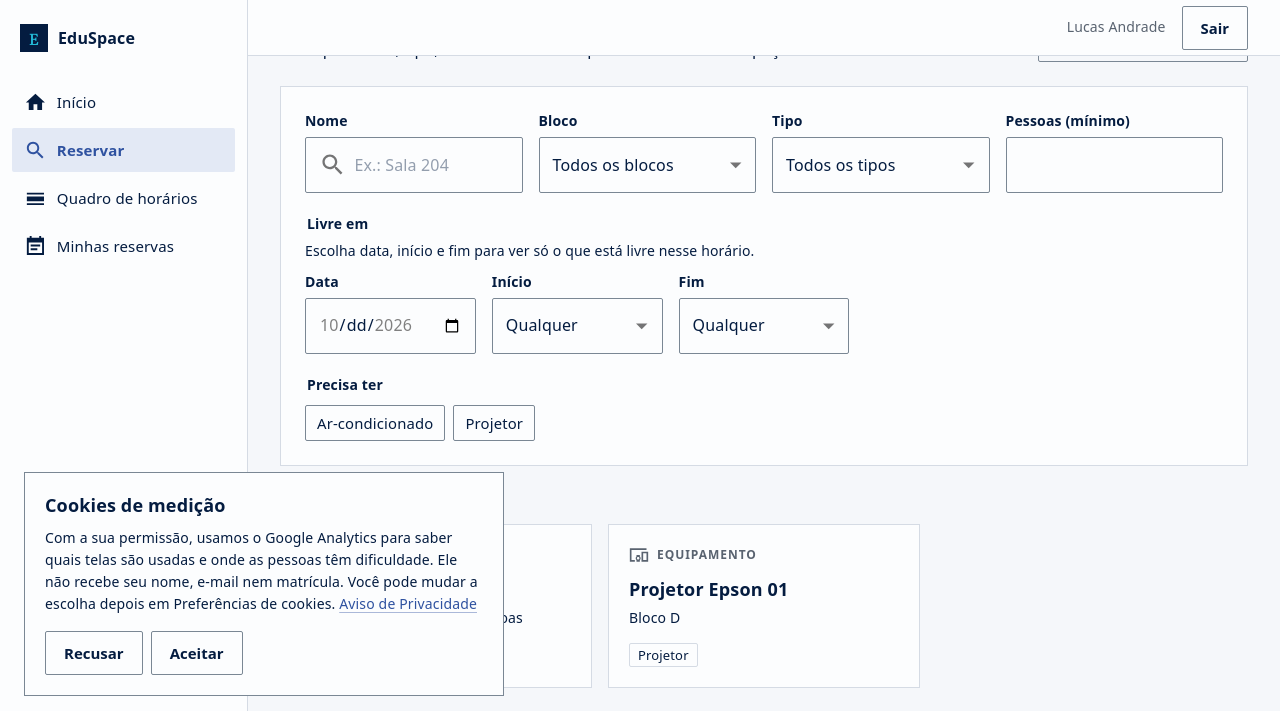
Test: reserve page (catalog list) › opens the detail when a card is clicked
(page scrolled)
What coordinates should you click on to do the following:
click the link "Equipamento Projetor Epson 01 Bloco D Projetor"
I would click on:
 (707, 554)
Its box is [608,524,920,688].
(page scrolled)
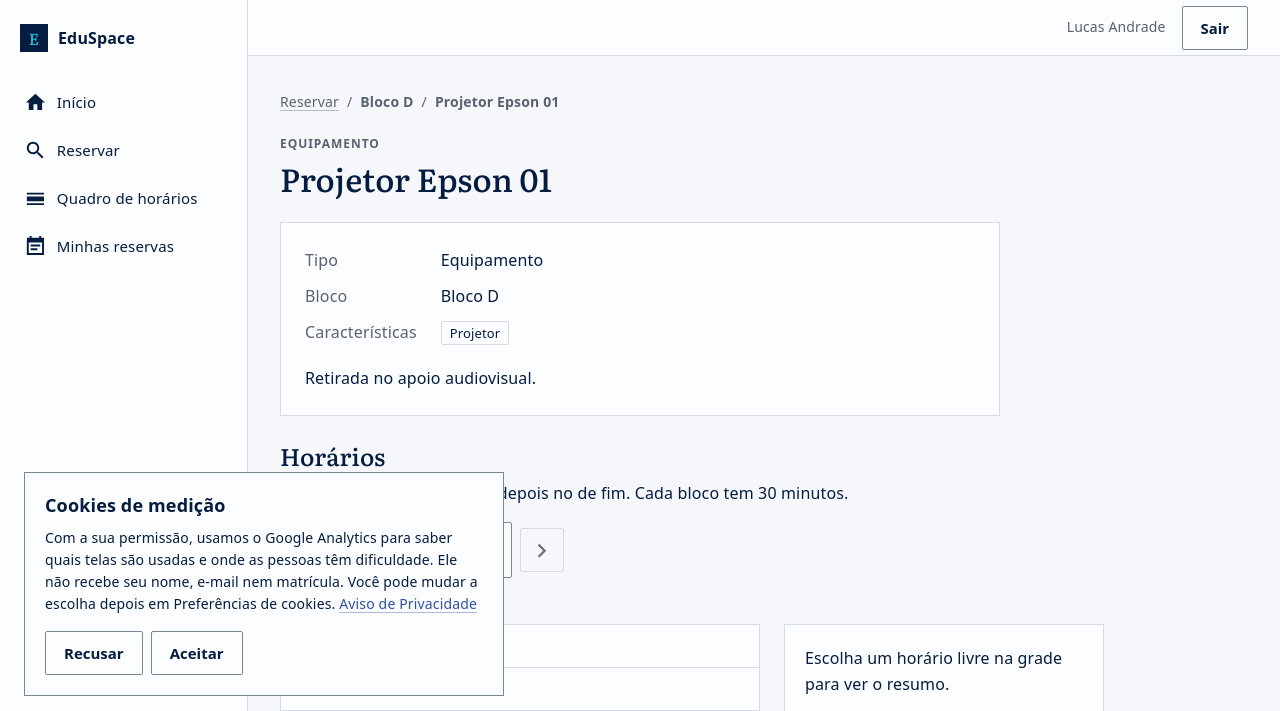
Expected: the heading "Projetor Epson 01" is shown, [280,158,552,198]
Expected: the text "Retirada no apoio audiovisual." is shown, [305,368,536,390]
